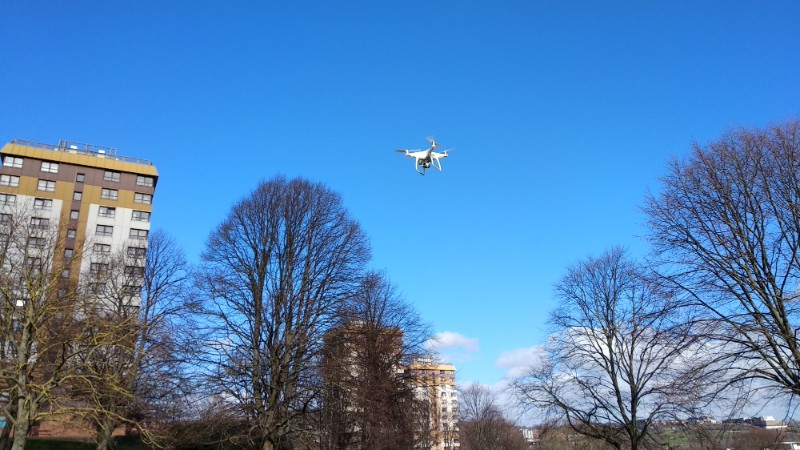drone: (393, 135, 458, 176)
